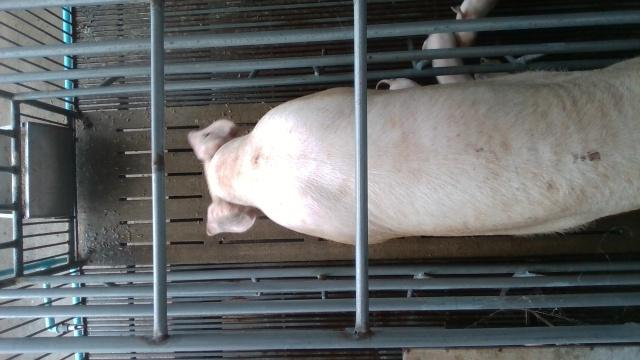piglet: (422, 33, 475, 83), (452, 0, 499, 47)
sow-stand: (189, 55, 640, 245)
